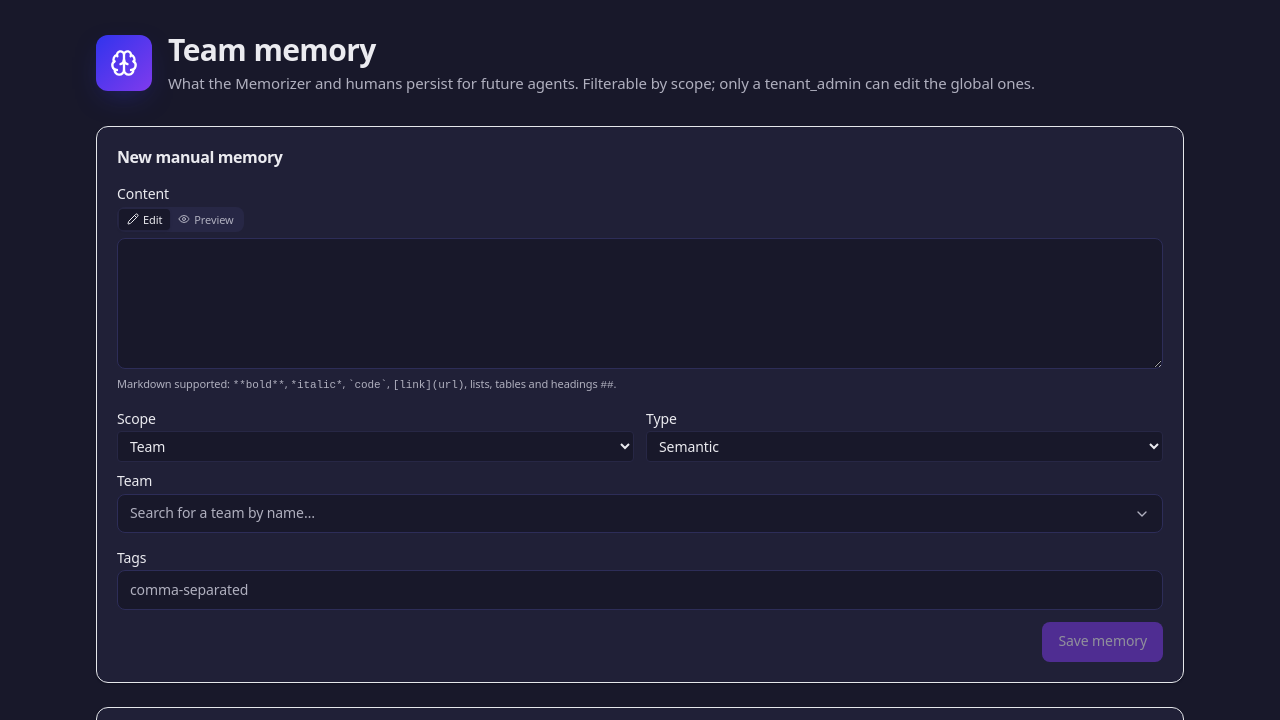
Test: memories en inglés › traduce los comboboxes compartidos del formulario
This screenshot has width=1280, height=720.
Expected: the heading "New manual memory" is shown, [117,146,282,168]
Expected: the text "Search for a team by name…" is shown, [130,503,315,524]
Note: Y el buscador de dentro del desplegable, que sólo existe al abrirlo.
Click the button with test id "memory-team-id-input-trigger" at (222, 513), box [117,494,1163,533]
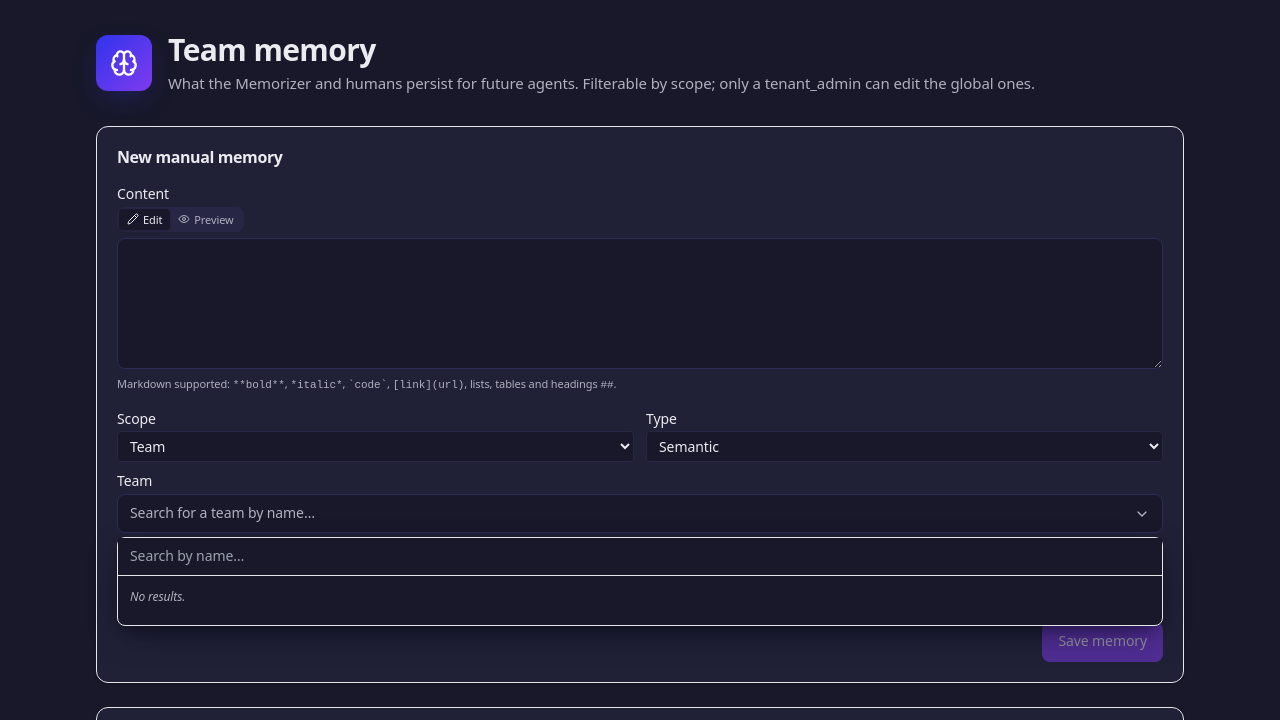
Expected: the field with test id "memory-team-id-input-search" is shown, [118,538,1162,576]
